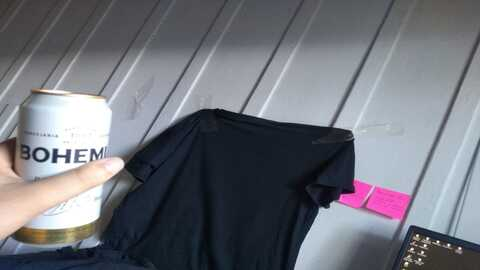bohemia: (10, 87, 112, 248)
